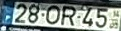2: (14, 2, 27, 23)
4: (81, 7, 93, 27)
5: (94, 7, 108, 28)
8: (27, 3, 40, 24)
O: (45, 4, 61, 25)
R: (59, 4, 77, 27)
